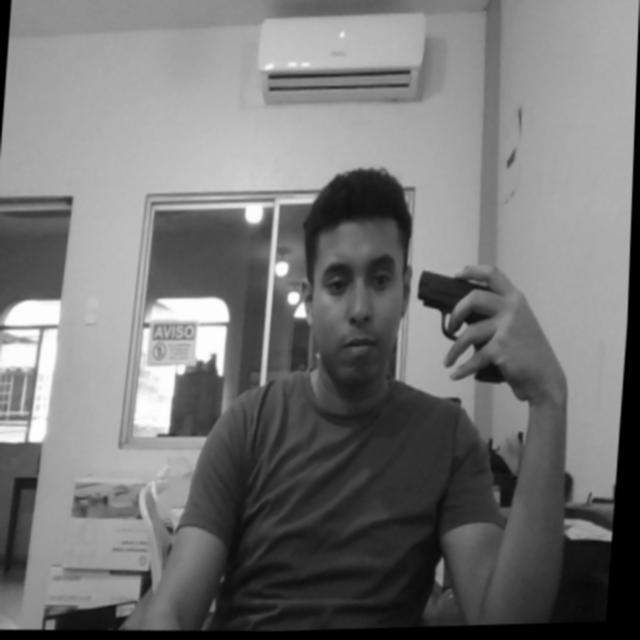weapon: (412, 268, 516, 390)
